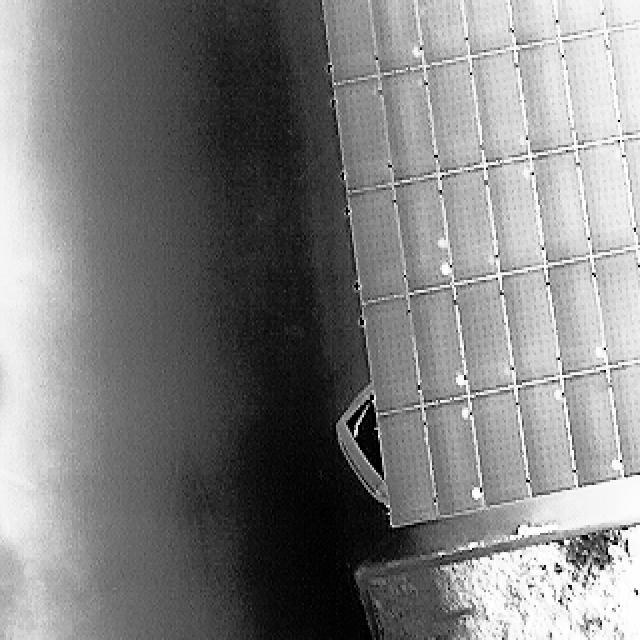Hotspots: (430, 232, 450, 254), (590, 341, 606, 363), (408, 45, 426, 64), (608, 454, 624, 474), (450, 371, 466, 390), (436, 262, 450, 281), (457, 405, 473, 420), (470, 485, 484, 502), (634, 335, 640, 353)
PV-modules: (502, 268, 566, 387), (453, 280, 517, 398), (516, 379, 580, 497), (376, 403, 438, 524), (559, 368, 621, 489), (576, 142, 640, 258), (545, 260, 606, 381), (468, 386, 530, 505), (531, 151, 594, 268), (421, 400, 482, 520), (407, 288, 469, 406), (483, 160, 547, 274), (362, 297, 424, 414), (558, 32, 621, 147), (517, 38, 578, 156), (470, 52, 532, 167), (440, 169, 501, 285), (345, 186, 406, 301), (332, 78, 392, 194), (393, 175, 452, 292), (427, 63, 488, 176), (379, 72, 439, 185), (590, 247, 640, 365), (320, 0, 380, 81), (604, 362, 640, 480), (362, 0, 420, 72), (604, 25, 640, 137), (412, 0, 467, 64), (460, 0, 515, 55), (508, 0, 562, 45), (620, 132, 640, 248), (549, 0, 603, 38), (602, 0, 640, 30)
